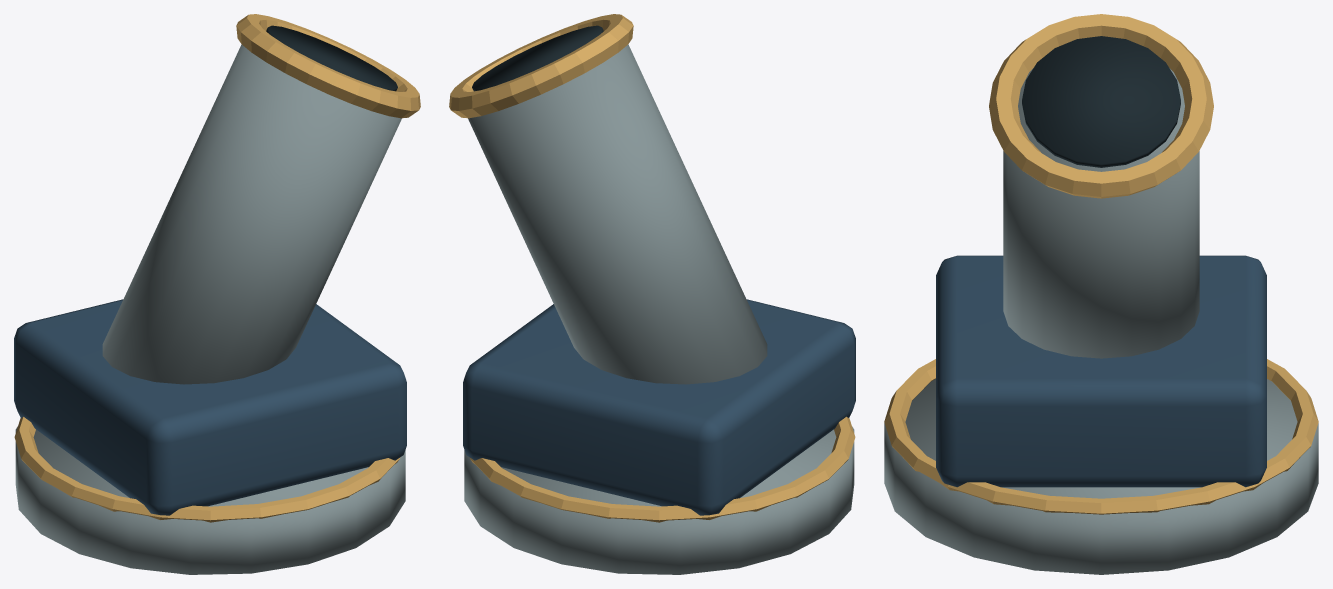
Rendered from module-mortar.glb.
3 renders of one model, left to right at view 1: azimuth 30°, elevation 25°; view 2: azimuth 150°, elevation 25°; view 3: azimuth 270°, elevation 25°, orthographic. The views are drawn at different scales.
Parts seen in each view (by area): view 1: module-mortar / Iron | weathered steel, module-mortar / Paint | Prussian blue, module-mortar / Brass | machined champagne, module-mortar / Rubber | dark insets; view 2: module-mortar / Iron | weathered steel, module-mortar / Paint | Prussian blue, module-mortar / Brass | machined champagne, module-mortar / Rubber | dark insets; view 3: module-mortar / Iron | weathered steel, module-mortar / Paint | Prussian blue, module-mortar / Brass | machined champagne, module-mortar / Rubber | dark insets.
Part boxes in pixels (x1,y1,x2,y2): module-mortar / Iron | weathered steel: (15, 44, 405, 574); module-mortar / Paint | Prussian blue: (14, 299, 406, 515); module-mortar / Brass | machined champagne: (14, 14, 420, 522); module-mortar / Rubber | dark insets: (266, 25, 397, 91); module-mortar / Iron | weathered steel: (464, 44, 854, 574); module-mortar / Paint | Prussian blue: (463, 299, 855, 515); module-mortar / Brass | machined champagne: (449, 14, 855, 522); module-mortar / Rubber | dark insets: (472, 25, 603, 91); module-mortar / Iron | weathered steel: (884, 68, 1318, 574); module-mortar / Paint | Prussian blue: (936, 255, 1266, 487); module-mortar / Brass | machined champagne: (884, 14, 1318, 514); module-mortar / Rubber | dark insets: (1022, 36, 1180, 167).
Size of the model in its own units: 1.76 by 2.07 by 1.64.
